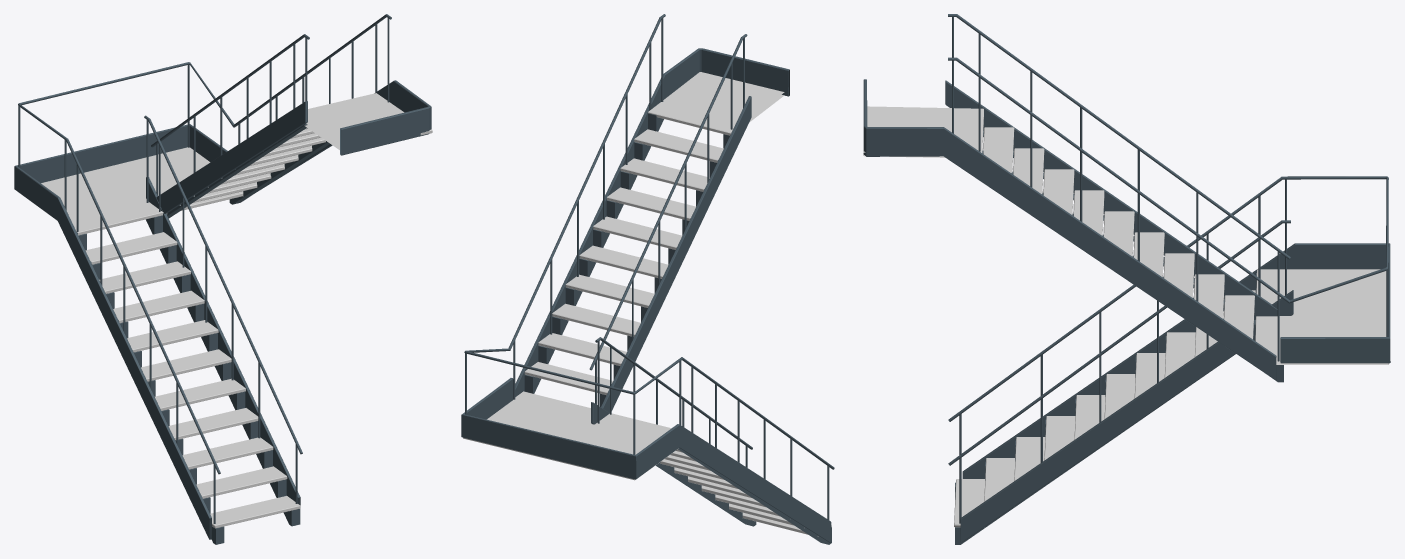
Rendered from ZStair.FBX.
3 renders of one model, left to right at view 1: azimuth 30°, elevation 25°; view 2: azimuth 150°, elevation 25°; view 3: azimuth 270°, elevation 25°, orthographic. The views are drawn at different scales.
Parts seen in each view (by area): view 1: Object007, Object006, StraightStair002, Object008, StraightStair003, Object009, Object010; view 2: Object009, Object006, Object008, Object007, StraightStair003, StraightStair002, Object010; view 3: Object007, Object008, Object006, Object009, StraightStair003, StraightStair002, Object010.
Part boxes in pixels (x1,y1,x2,y2): Object007: [20, 147, 300, 528]; Object006: [14, 124, 300, 539]; StraightStair002: [18, 65, 302, 544]; Object008: [156, 80, 431, 213]; StraightStair003: [151, 14, 391, 218]; Object009: [180, 93, 432, 205]; Object010: [18, 62, 234, 474]; Object009: [524, 72, 784, 395]; Object006: [461, 378, 831, 543]; Object008: [515, 48, 789, 412]; Object007: [463, 391, 831, 536]; StraightStair003: [508, 14, 747, 406]; StraightStair002: [465, 337, 831, 544]; Object010: [464, 348, 834, 469]; Object007: [954, 269, 1388, 527]; Object008: [863, 79, 1277, 380]; Object006: [960, 243, 1390, 542]; Object009: [863, 106, 1254, 339]; StraightStair003: [948, 14, 1290, 382]; StraightStair002: [948, 179, 1388, 544]; Object010: [948, 176, 1388, 421].
Bounding box in the file's own units: 74.35 × 194 × 174.
